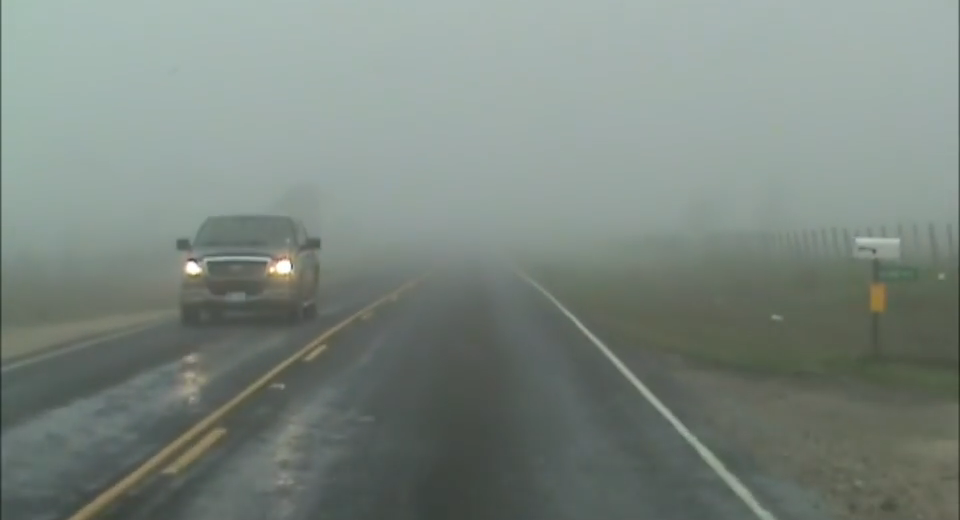car: (175, 212, 323, 327)
